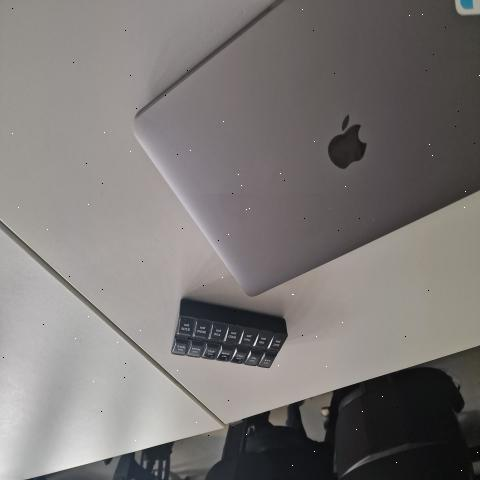PillBox: (168, 297, 292, 384)
